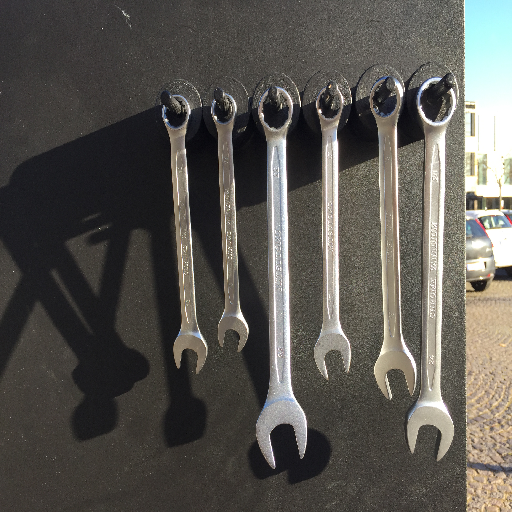bottom: (254, 396, 309, 468), (403, 397, 456, 461), (372, 342, 418, 401), (312, 329, 353, 379), (170, 328, 209, 376), (215, 309, 251, 353)
top: (415, 77, 458, 127), (257, 87, 296, 135), (368, 76, 403, 123), (159, 93, 193, 134), (315, 86, 346, 128), (209, 92, 240, 129)
